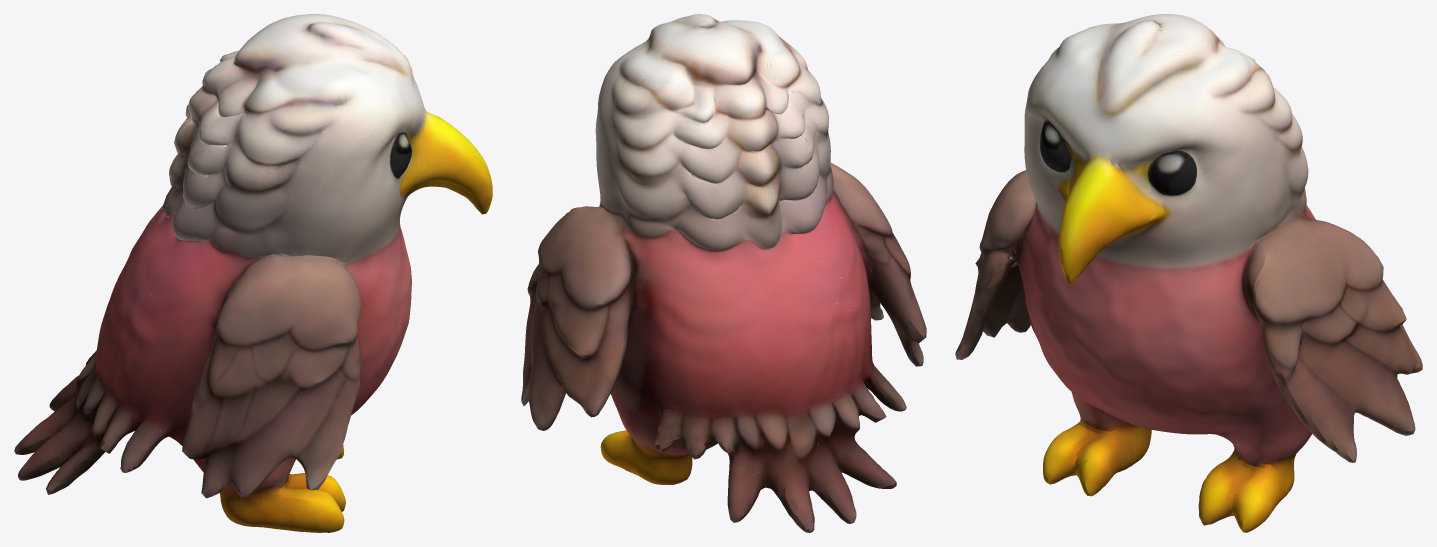
Rendered from mike hawk.fbx.
The picture shows the model from 3 angles, left to right: view 1: azimuth 30°, elevation 25°; view 2: azimuth 150°, elevation 25°; view 3: azimuth 270°, elevation 25°; orthographic projection. The views are drawn at different scales.
Parts seen in each view (by area): view 1: Object_2; view 2: Object_2; view 3: Object_2.
Part boxes in pixels (x1,y1,x2,y2): Object_2: (14,14,492,532); Object_2: (521,14,926,532); Object_2: (955,14,1422,532).
Bounding box in the file's own units: 0.6053 × 0.7213 × 0.6365.
Materials: 1 (1 with a texture image).
